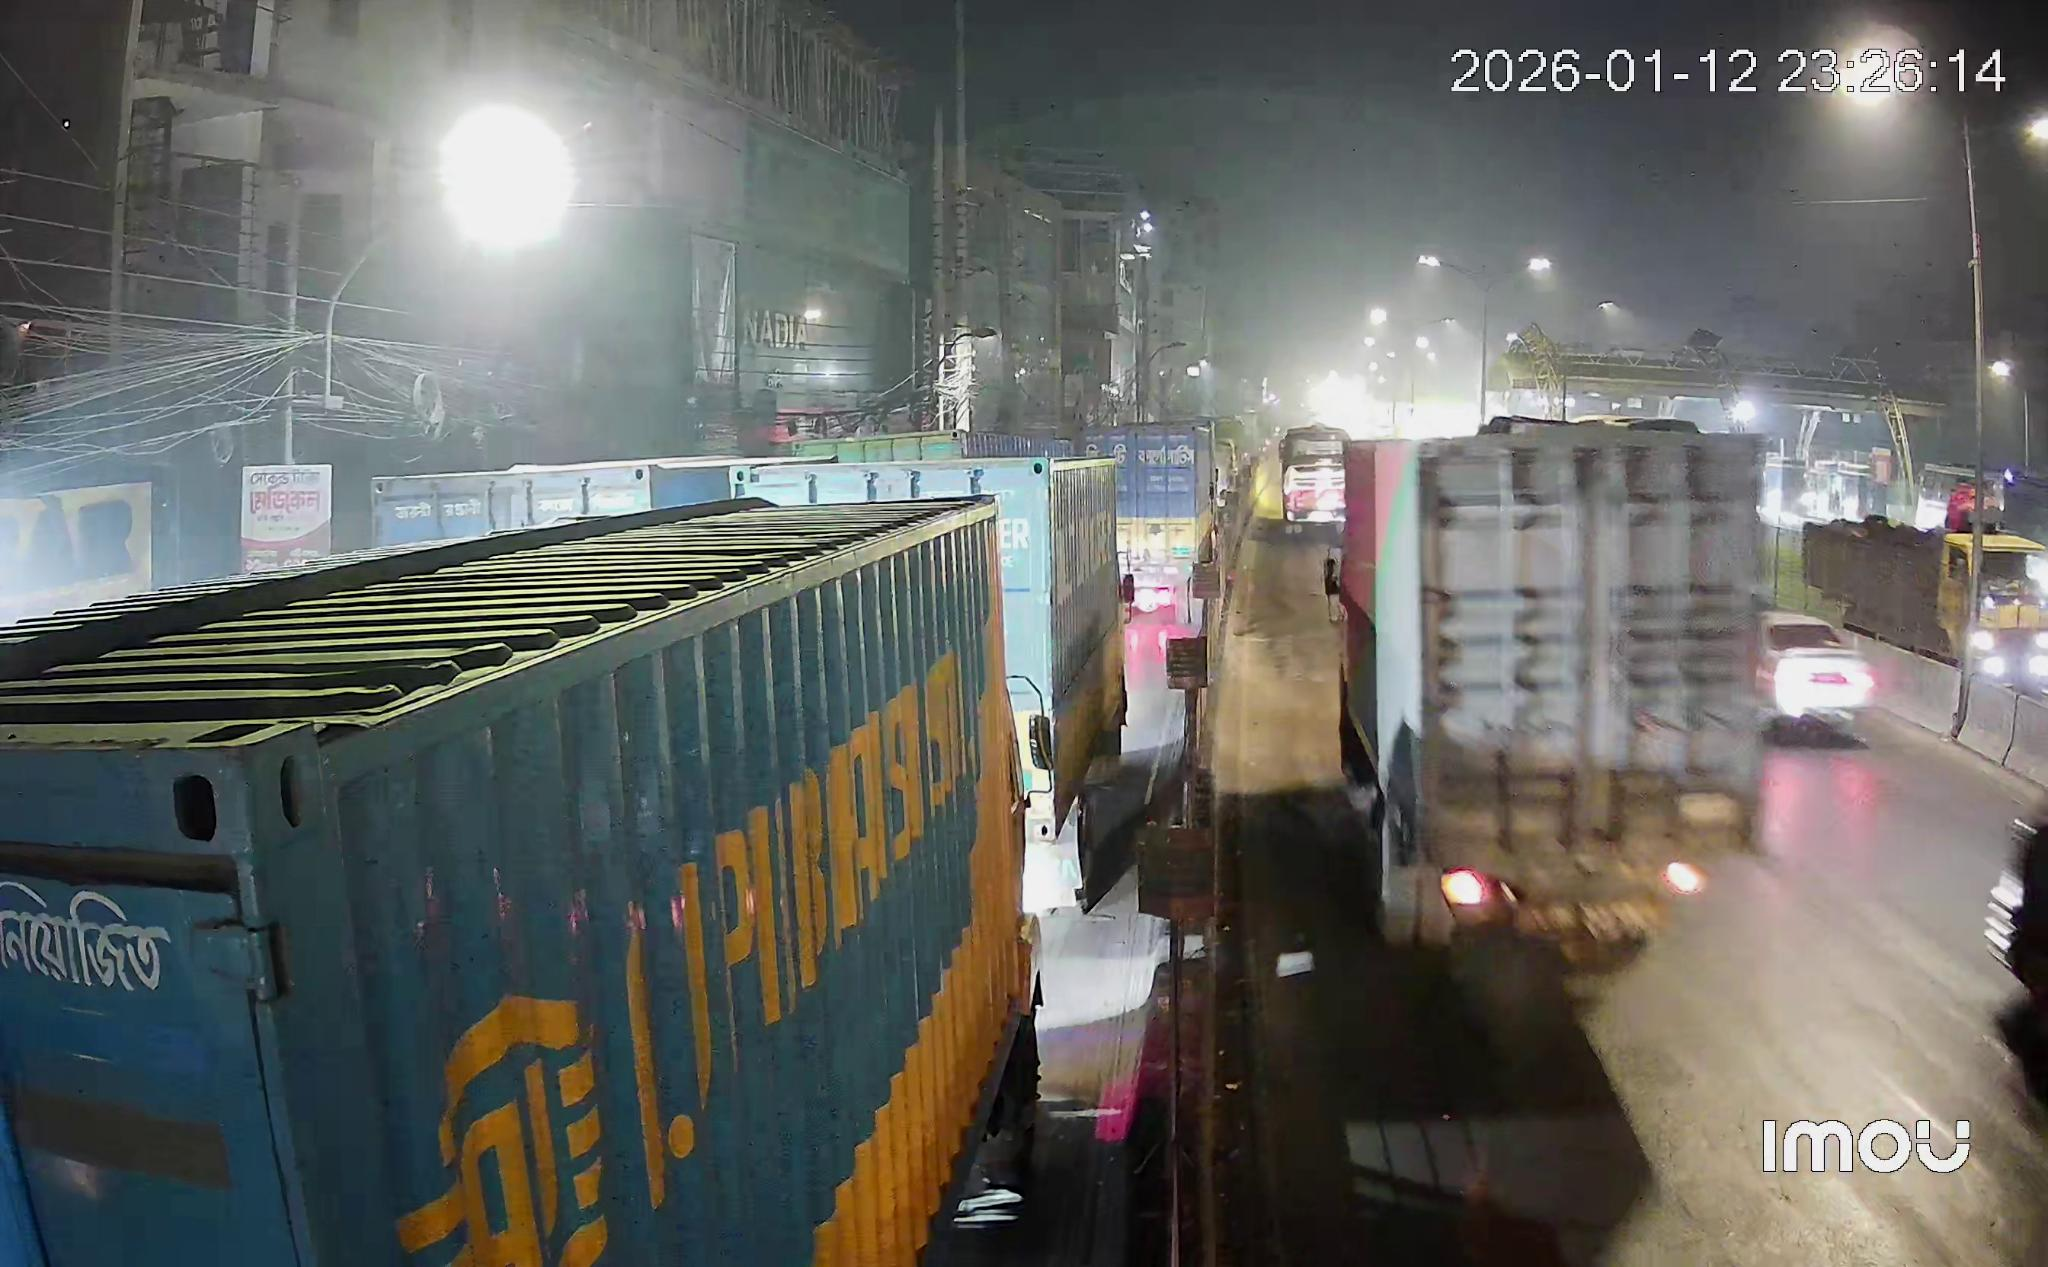Bus: (1281, 426, 1344, 531)
Private-Sedan Car: (1757, 613, 1874, 729)
Truck: (0, 495, 1039, 1267), (1322, 417, 1776, 976), (733, 455, 1126, 910), (1802, 521, 2047, 679)
